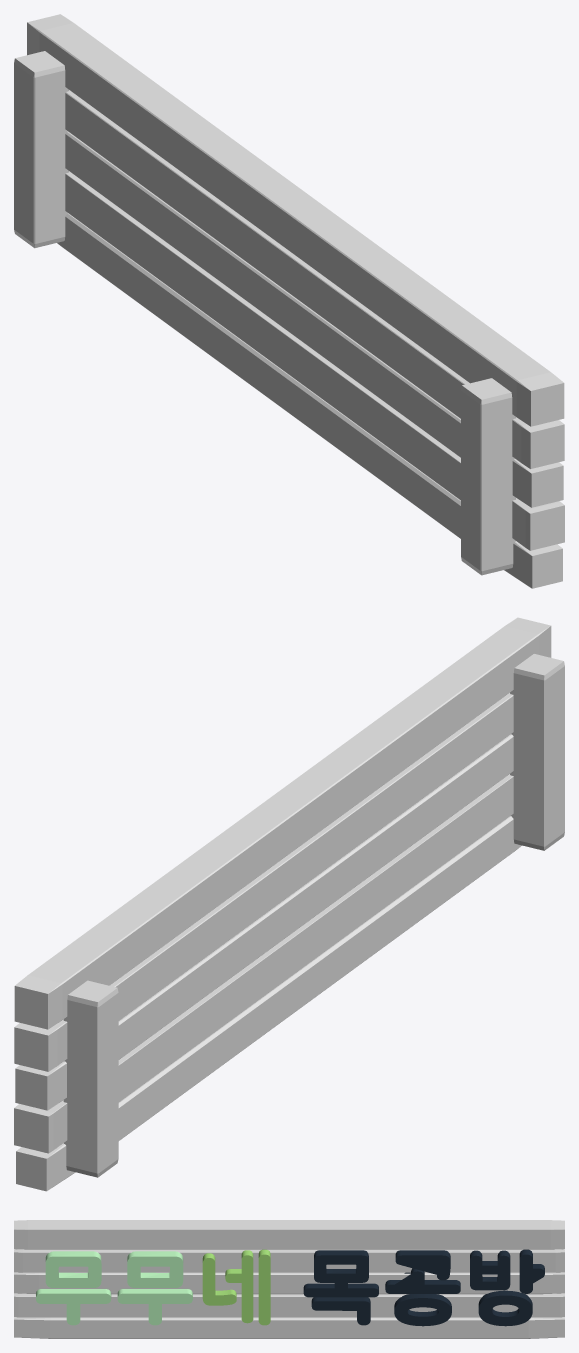
Rendered from 무무네목공방_간판.fbx.
3 renders of one model, top to bottom at view 1: azimuth 30°, elevation 25°; view 2: azimuth 150°, elevation 25°; view 3: azimuth 270°, elevation 25°, orthographic. The views are drawn at different scales.
Parts seen in each view (by area): view 1: 큐브.010, 큐브.005; view 2: 큐브.010, 큐브.005; view 3: 큐브.010, 큐브.005, polySurface191.001, polySurface226.001, polySurface203.001.
Part boxes in pixels (box(x1,y1,x2,y2)): 큐브.010: box(14, 14, 564, 575); 큐브.005: box(57, 90, 564, 588); 큐브.010: box(14, 617, 564, 1177); 큐브.005: box(14, 693, 521, 1191); 큐브.010: box(14, 1220, 564, 1317); 큐브.005: box(14, 1249, 564, 1338); polySurface191.001: box(303, 1249, 544, 1326); polySurface226.001: box(36, 1251, 192, 1325); polySurface203.001: box(202, 1249, 270, 1325).
Size of the model in its own units: 98.52 by 226 by 1023.
